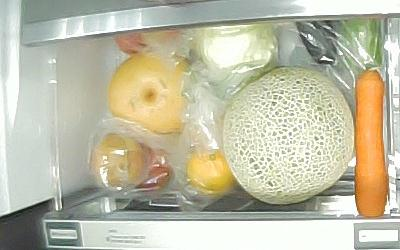cabbage: (196, 22, 280, 80)
carrot: (354, 64, 386, 220)
eggplant_vinyl: (293, 19, 339, 67)
melon: (222, 64, 354, 204)
pear: (108, 52, 204, 141)
prune_vinyl: (91, 133, 145, 189), (139, 144, 177, 198)
tangerine_vinyl: (187, 144, 239, 196)
zucchini_vinyl: (346, 19, 383, 70)
